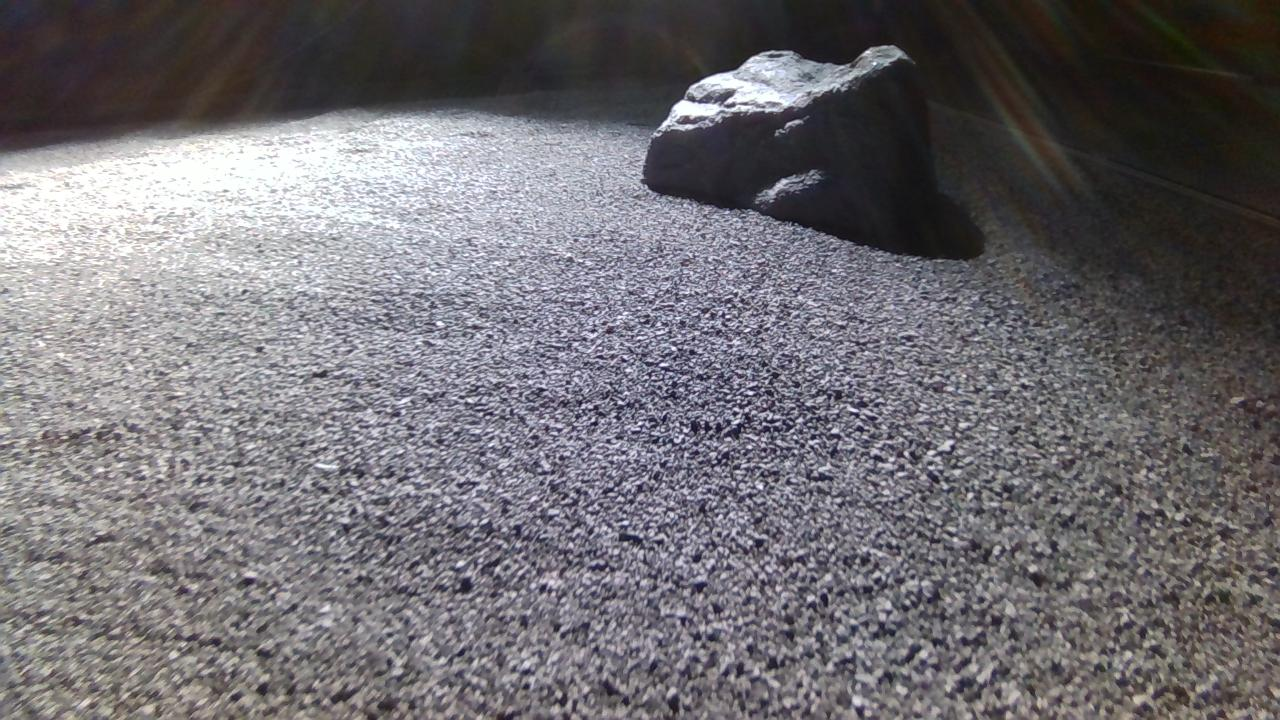rock: (644, 44, 944, 255)
